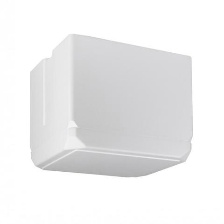foam_box: (23, 30, 199, 182)
